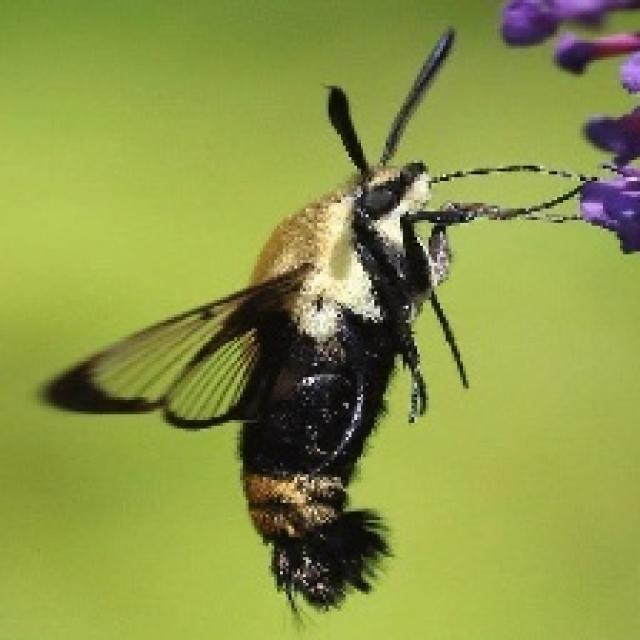butterfly: (37, 23, 637, 626)
